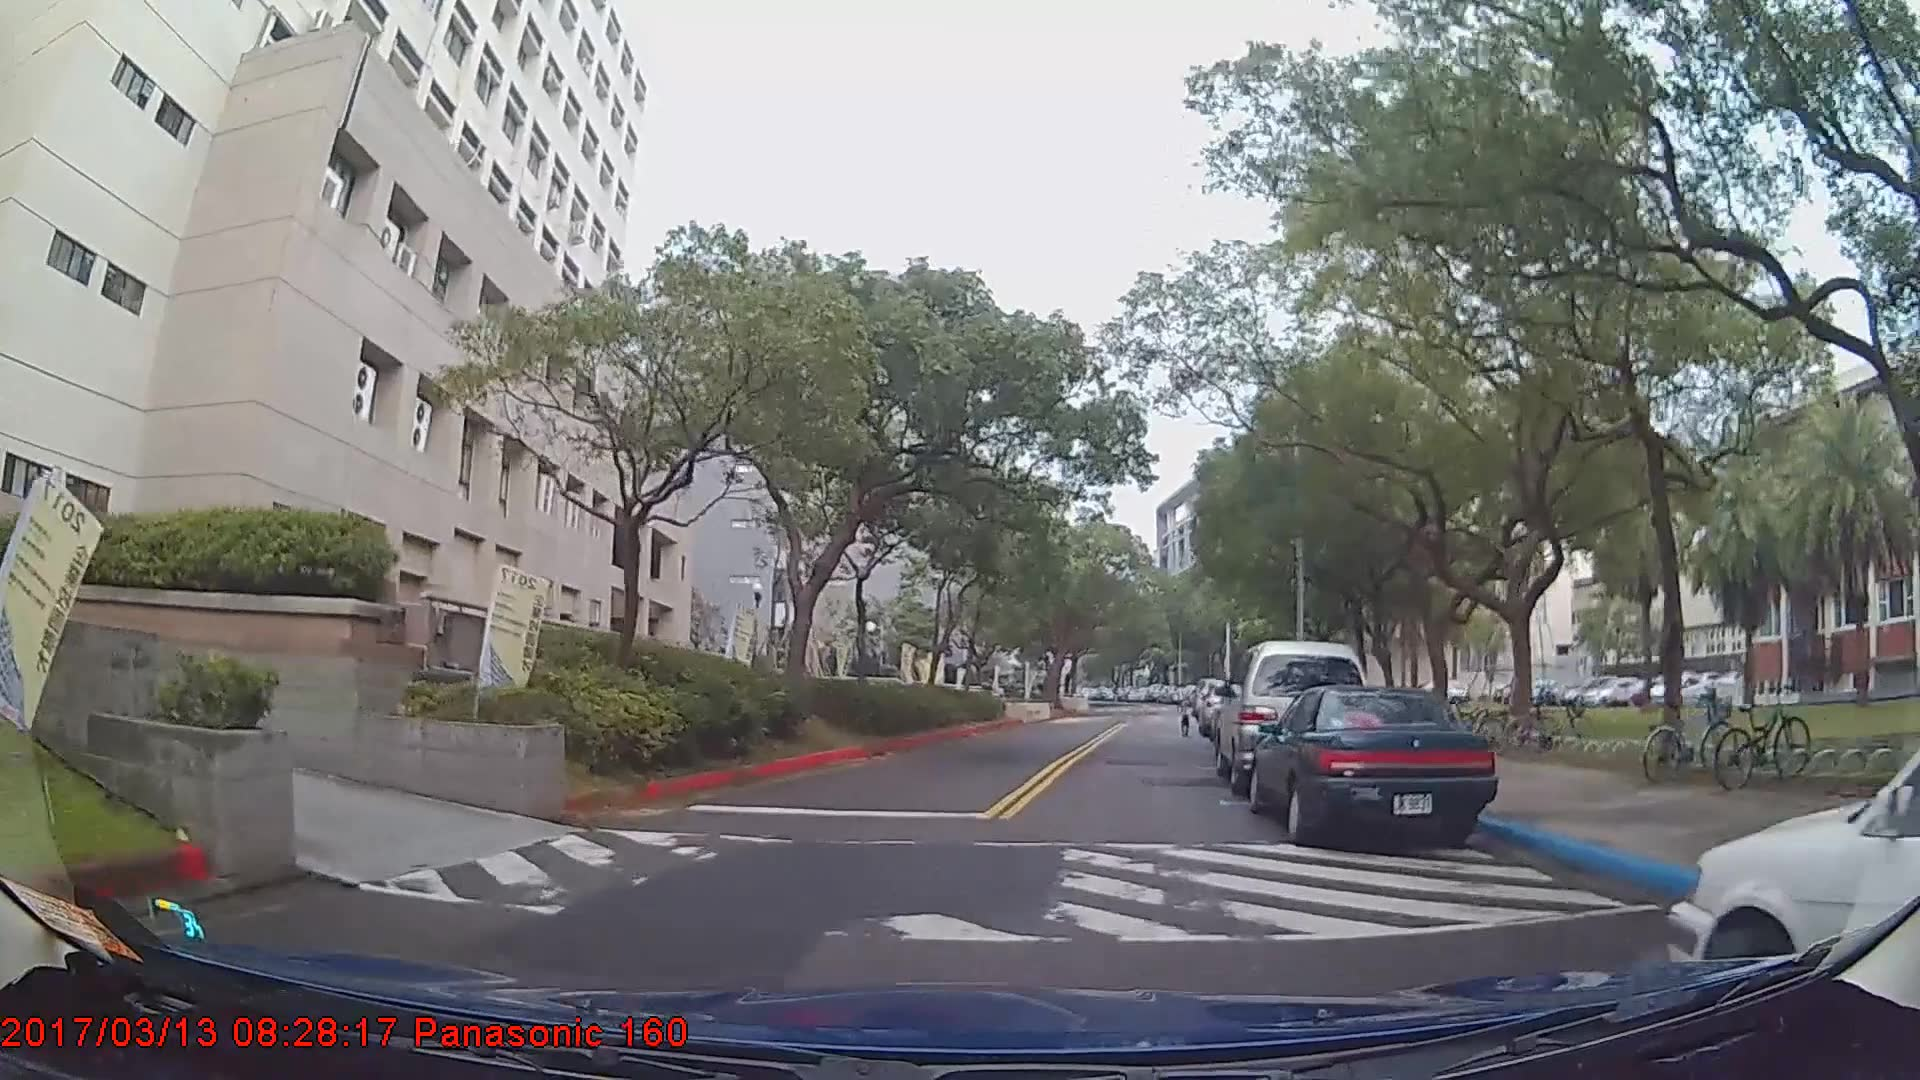vehicle: (1671, 752, 1920, 1011), (1247, 680, 1495, 843), (1217, 638, 1375, 796)
